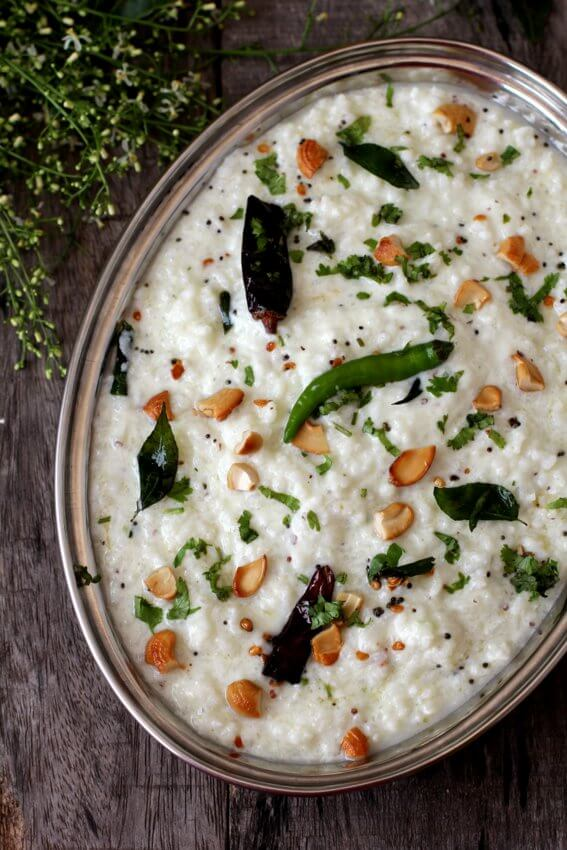curd_rice: (68, 62, 567, 769)
